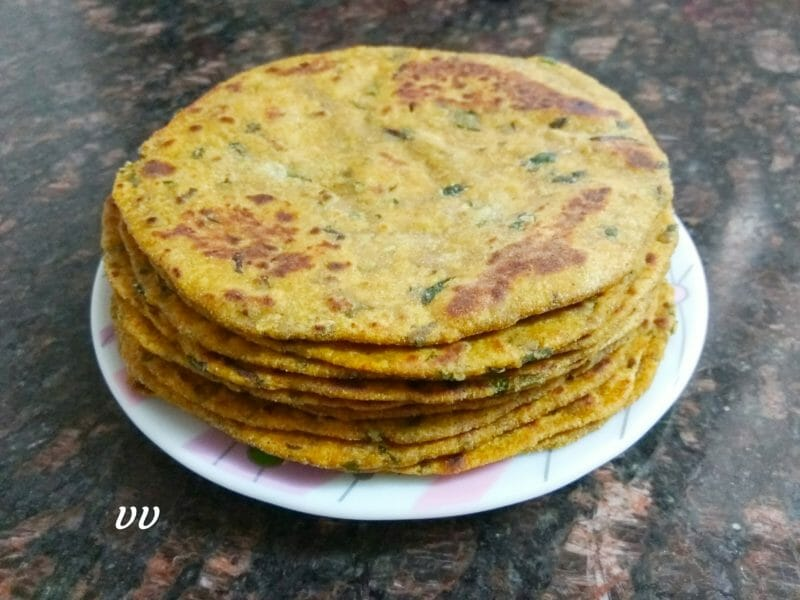aloo_paratha: (99, 42, 683, 482)
